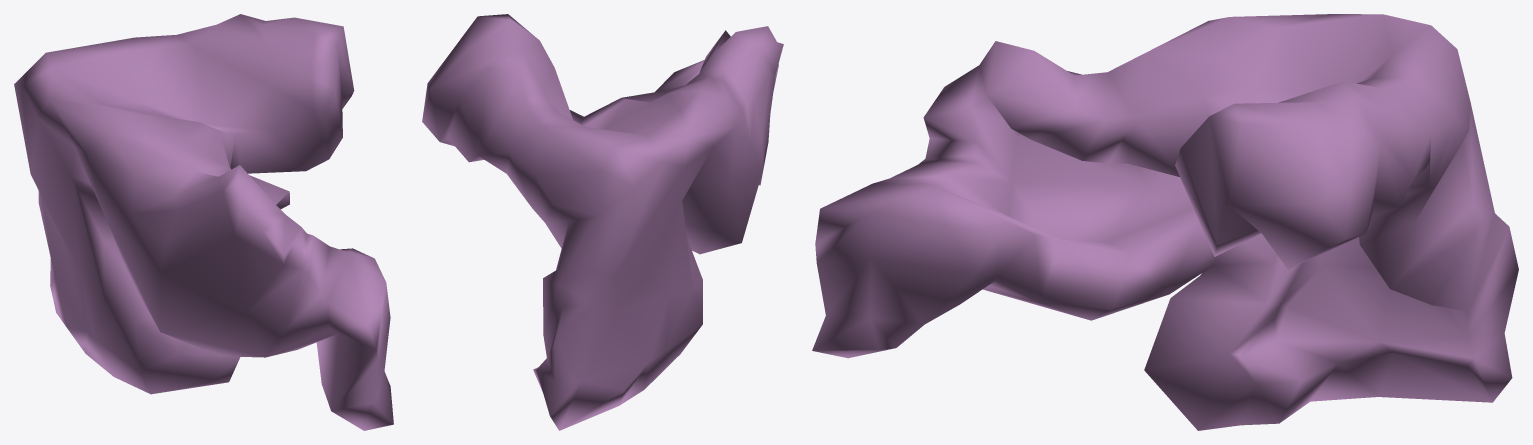
3 views of the same model, side by side, from view 1: azimuth 30°, elevation 25°; view 2: azimuth 150°, elevation 25°; view 3: azimuth 270°, elevation 25° (orthographic). The views are drawn at different scales.
Parts seen in each view (by area): view 1: 右侧额下回三角部; view 2: 右侧额下回三角部; view 3: 右侧额下回三角部.
Part boxes in pixels (box(x1,y1,x2,y2)): 右侧额下回三角部: box(14, 14, 393, 430); 右侧额下回三角部: box(422, 14, 783, 430); 右侧额下回三角部: box(812, 14, 1518, 430).
Bounding box in the file's own units: 0.0302 × 0.0331 × 0.0521.
